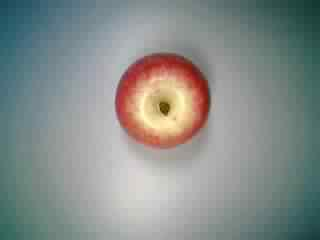apple: (110, 47, 214, 151)
